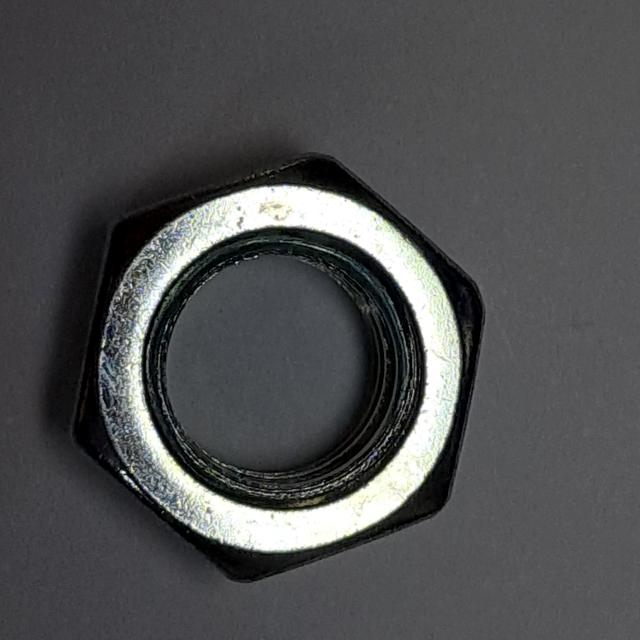Excellent: (53, 141, 495, 595)
